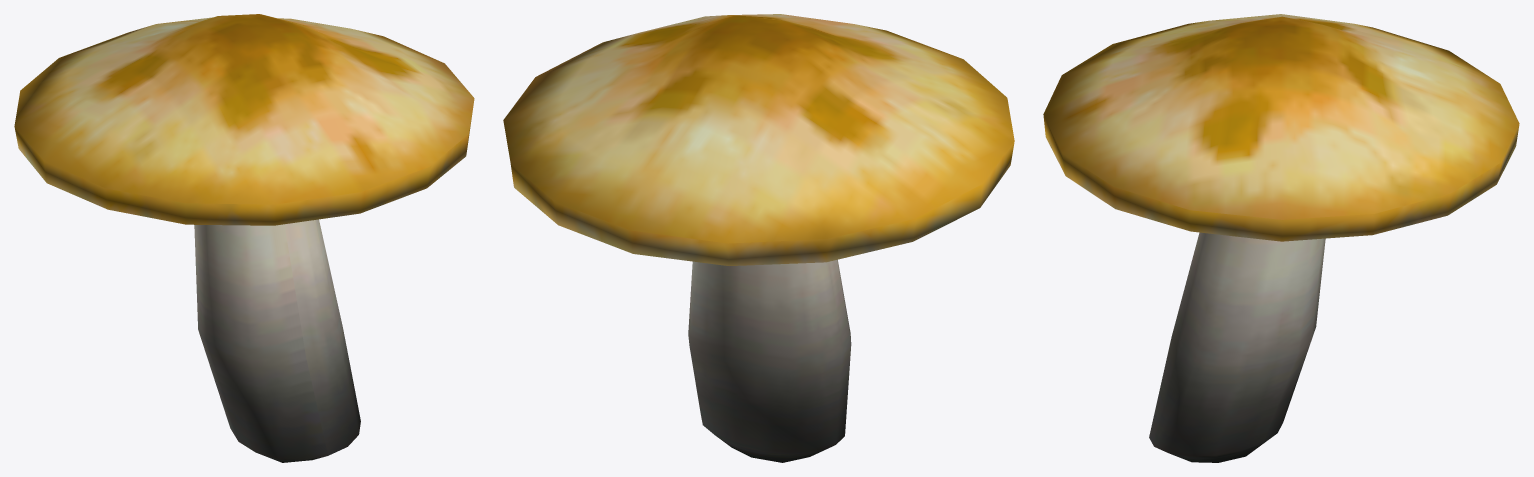
Rendered from INST_TROLLHOLE_SHROOMC3.fbx.
3 views of the same model, side by side, from view 1: azimuth 30°, elevation 25°; view 2: azimuth 150°, elevation 25°; view 3: azimuth 270°, elevation 25° (orthographic). The views are drawn at different scales.
Parts seen in each view (by area): view 1: INST_TROLLHOLE_SHROOMC3; view 2: INST_TROLLHOLE_SHROOMC3; view 3: INST_TROLLHOLE_SHROOMC3.
Part boxes in pixels (x1,y1,x2,y2): INST_TROLLHOLE_SHROOMC3: (14,14,474,462); INST_TROLLHOLE_SHROOMC3: (503,14,1014,462); INST_TROLLHOLE_SHROOMC3: (1043,14,1519,462).
Size of the model in its own units: 21938 by 21084 by 21932.
Materials: 1 (1 with a texture image).
